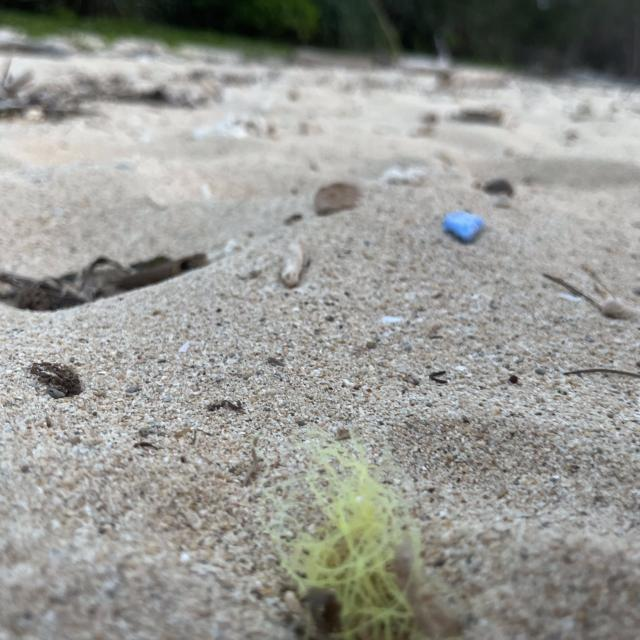coral: (272, 230, 312, 304)
seaweed: (0, 223, 217, 312)
trash: (274, 405, 473, 640), (437, 202, 490, 249)
